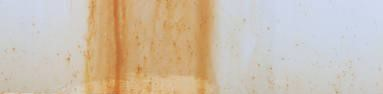Corrosion: (84, 1, 221, 94)
